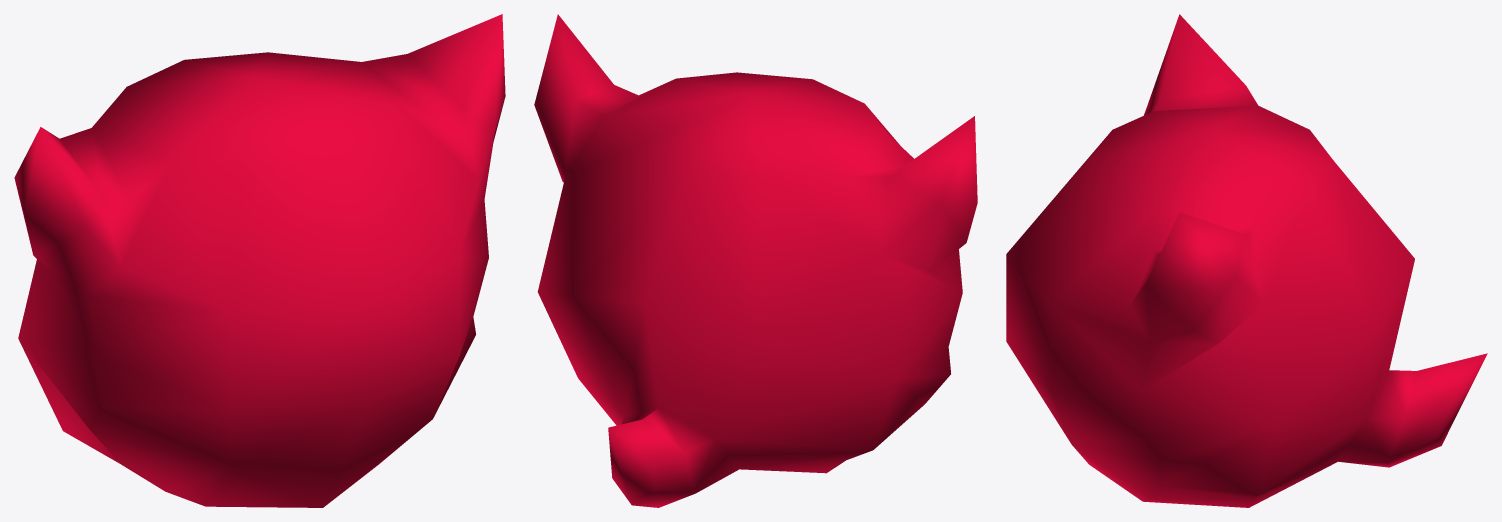
File: castObj_demon.fbx
3 renders of one model, left to right at view 1: azimuth 30°, elevation 25°; view 2: azimuth 150°, elevation 25°; view 3: azimuth 270°, elevation 25°, orthographic. The views are drawn at different scales.
Visible parts, largest first — view 1: castObj_demon; view 2: castObj_demon; view 3: castObj_demon.
Boxes of the visible parts, <box> form: castObj_demon: <box>14,14,505,507</box>; castObj_demon: <box>534,14,977,507</box>; castObj_demon: <box>1006,14,1487,507</box>.
Bounding box in the file's own units: 0.4751 × 0.4028 × 0.4686.
